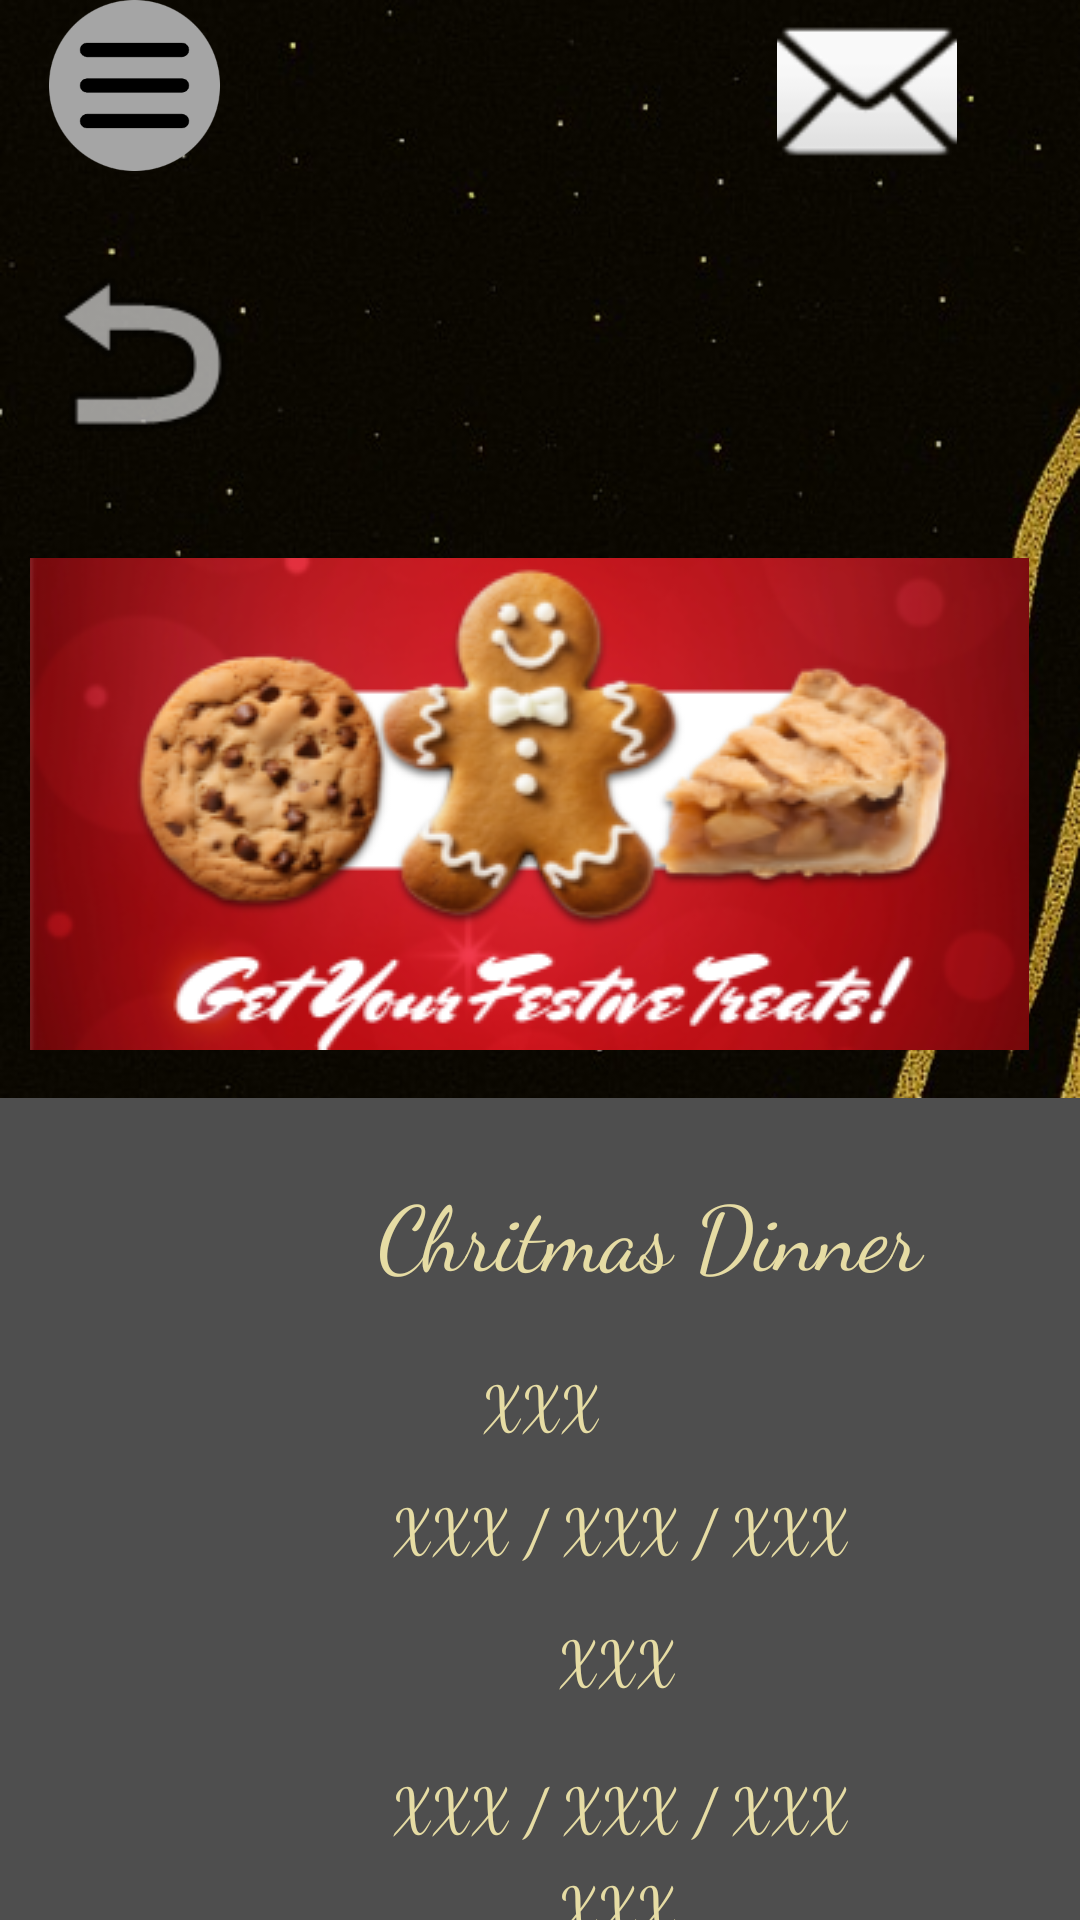

Named icons in this screenshot (1080×1920) and their bounding boxes, bbox=[x1, y1, x2, y2]:
burger menu: bbox=[49, 0, 220, 171]
email: bbox=[734, 27, 974, 156]
revert: bbox=[64, 248, 246, 425]
